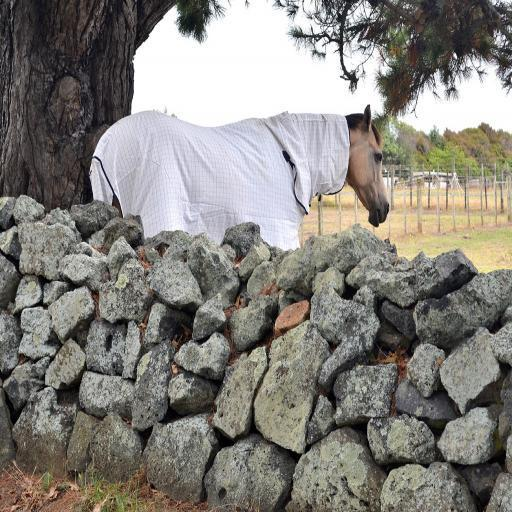horse: (91, 104, 389, 250)
